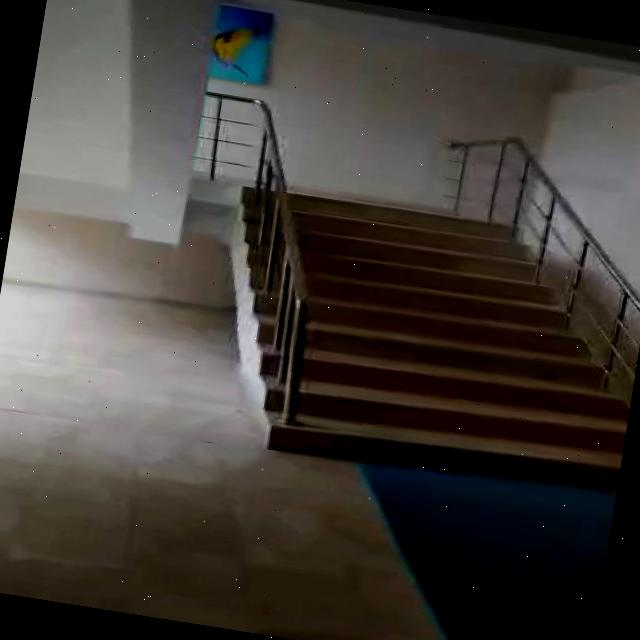stairs: (224, 184, 640, 499)
